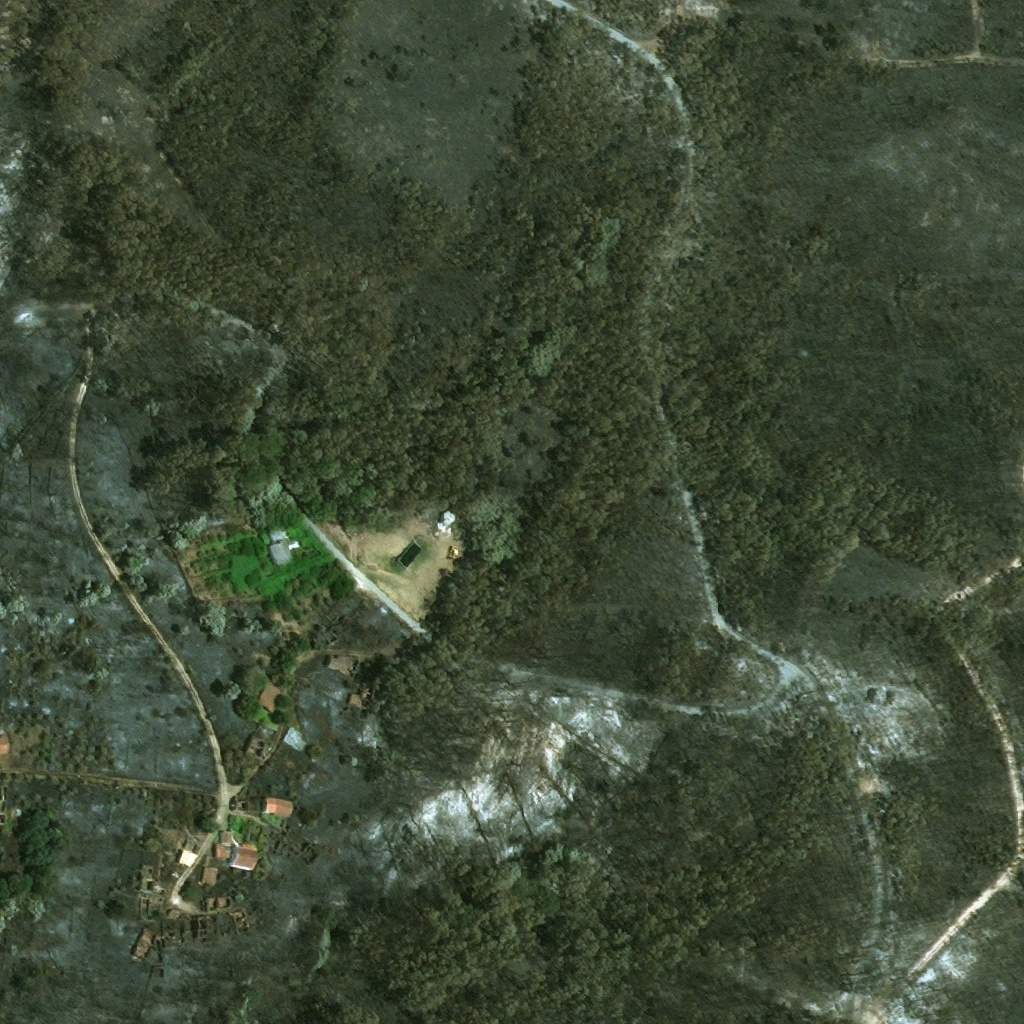0 no-damage: (255, 682, 286, 715), (327, 653, 361, 681), (268, 538, 295, 567), (230, 846, 259, 868), (263, 794, 293, 815), (282, 729, 308, 751), (436, 509, 456, 533), (178, 848, 197, 868), (268, 526, 285, 543), (201, 866, 217, 884), (215, 844, 233, 859), (219, 831, 232, 844), (0, 738, 7, 750)
3 destroyed: (246, 735, 271, 761), (140, 875, 168, 898), (350, 689, 377, 709), (205, 896, 232, 912), (312, 631, 331, 651), (232, 906, 251, 924), (198, 916, 213, 937), (230, 796, 249, 812), (244, 831, 258, 843), (167, 909, 184, 918)
